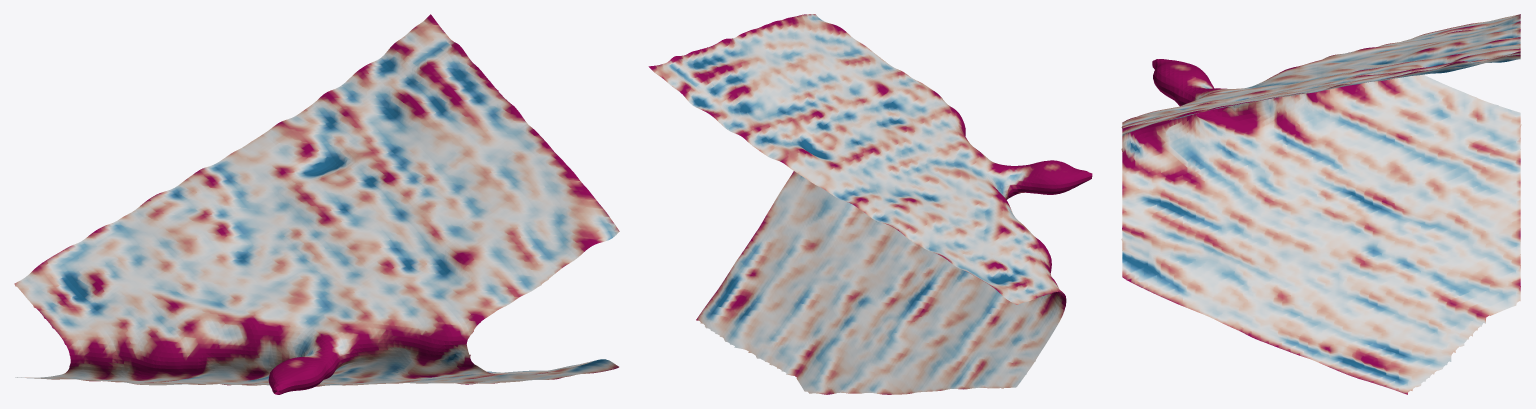
Rendered from crop1125_deviation.glb.
The picture shows the model from 3 angles, left to right: view 1: azimuth 30°, elevation 25°; view 2: azimuth 150°, elevation 25°; view 3: azimuth 270°, elevation 25°; orthographic projection. The views are drawn at different scales.
Visible parts, largest first — view 1: world; view 2: world; view 3: world.
Part boxes in pixels (x1,y1,x2,y2): world: (14, 14, 619, 394); world: (648, 14, 1092, 394); world: (1121, 14, 1521, 394).
Bounding box in the file's own units: 1879 × 1403 × 1479.
